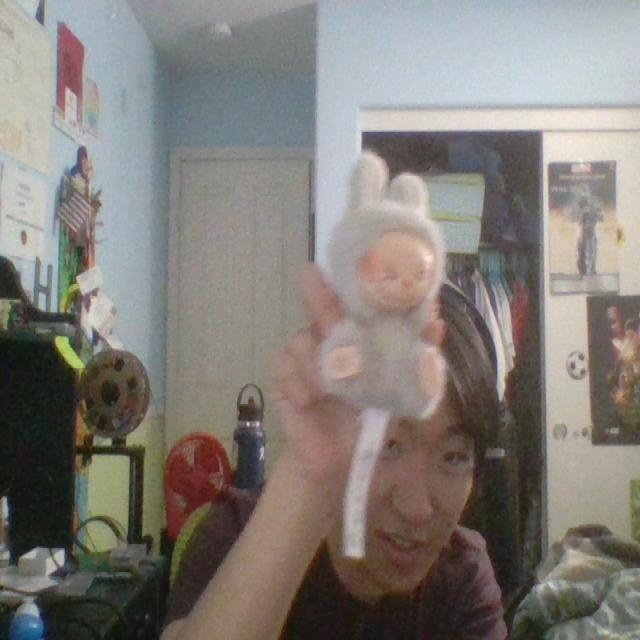labubu: (321, 152, 445, 417)
